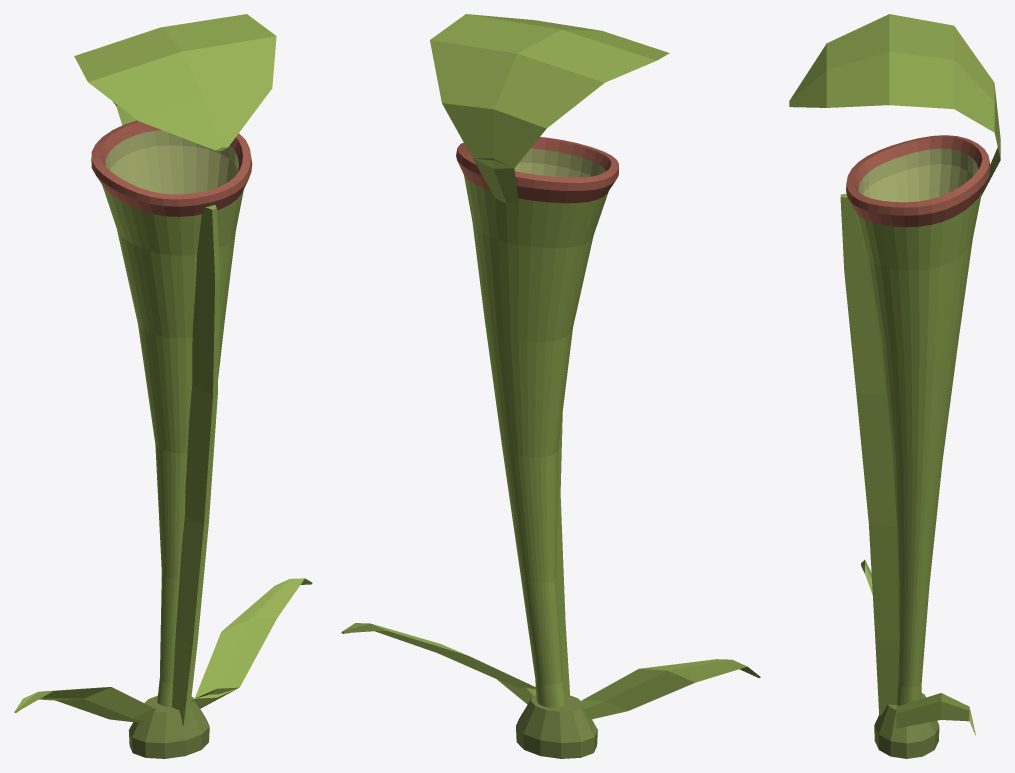
The picture shows the model from 3 angles, left to right: view 1: azimuth 30°, elevation 25°; view 2: azimuth 150°, elevation 25°; view 3: azimuth 270°, elevation 25°; orthographic projection. The views are drawn at different scales.
Parts seen in each view (by area): view 1: WholeDeepHollowTrumpetLeaf, WholeCurledOverarchingHood, WholeNarrowFrontLeafFlange, WholeSpreadingBasalLeaf1, WholeSmallRootCrown, WholeSpreadingBasalLeaf0; view 2: WholeDeepHollowTrumpetLeaf, WholeCurledOverarchingHood, WholeSpreadingBasalLeaf0, WholeSmallRootCrown, WholeSpreadingBasalLeaf1, WholeNarrowFrontLeafFlange; view 3: WholeDeepHollowTrumpetLeaf, WholeCurledOverarchingHood, WholeNarrowFrontLeafFlange, WholeSmallRootCrown, WholeSpreadingBasalLeaf1.
Part boxes in pixels (x1,y1,x2,y2): WholeDeepHollowTrumpetLeaf: (91,120,252,706); WholeCurledOverarchingHood: (74,14,276,150); WholeNarrowFrontLeafFlange: (171,205,219,725); WholeSpreadingBasalLeaf1: (191,578,312,708); WholeSmallRootCrown: (128,695,209,758); WholeSpreadingBasalLeaf0: (14,687,156,722); WholeDeepHollowTrumpetLeaf: (456,137,618,707); WholeCurledOverarchingHood: (430,14,669,203); WholeSpreadingBasalLeaf0: (579,659,760,719); WholeSmallRootCrown: (516,694,597,758); WholeSpreadingBasalLeaf1: (341,623,536,704); WholeNarrowFrontLeafFlange: (556,414,569,696); WholeDeepHollowTrumpetLeaf: (846,135,990,705); WholeCurledOverarchingHood: (789,14,1000,196); WholeNarrowFrontLeafFlange: (840,193,899,715); WholeSmallRootCrown: (874,693,939,758); WholeSpreadingBasalLeaf1: (896,693,975,735).
Size of the model in its own units: 0.586 by 1.1 by 0.304.
